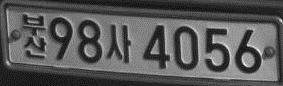0: (172, 25, 199, 70)
4: (141, 24, 170, 70)
5: (204, 27, 230, 72)
6: (233, 28, 261, 74)
8: (76, 18, 102, 63)
9: (49, 15, 73, 60)
부산_V: (21, 12, 47, 60)
사: (105, 22, 131, 64)
